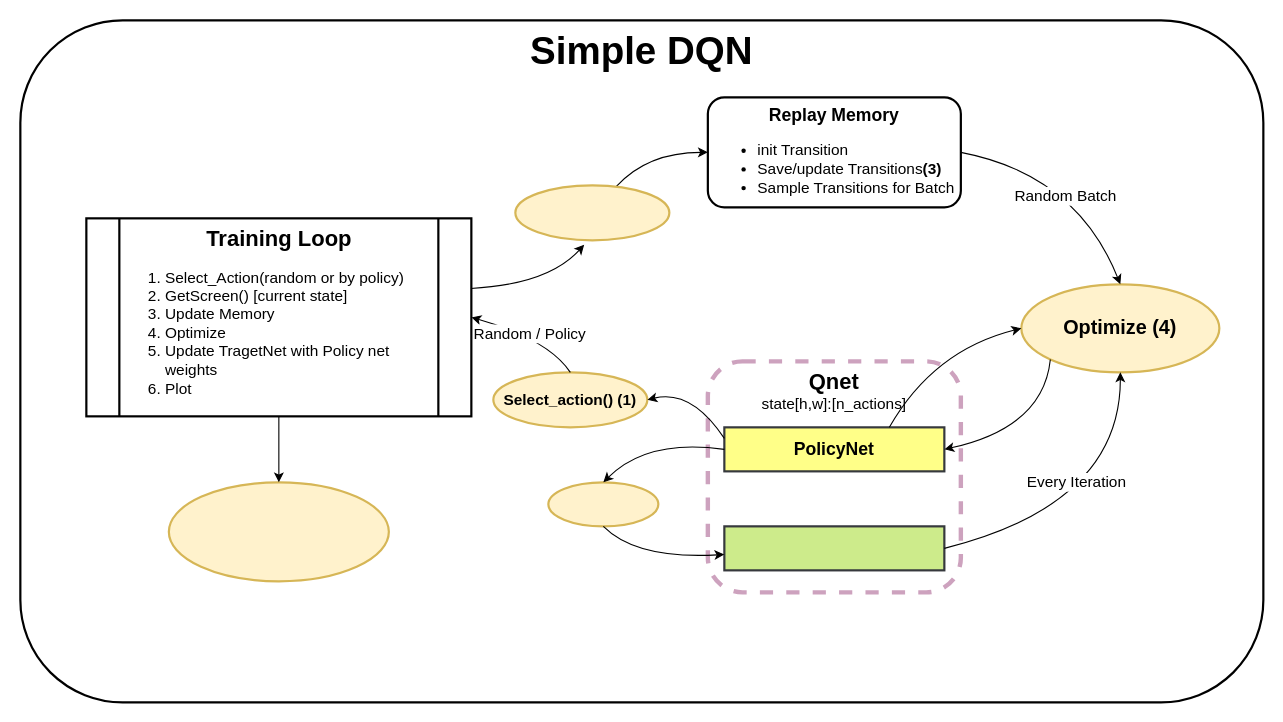
The diagram is 1283 pixels wide and 722 high, and some of its shapes have lost their labels. The shapes that lost their labels are listed below. From the top down, each one's box as (x1, y1, x2, y2) in pixels, then its label:
(514, 184, 670, 241): getScreen()(2)
(547, 481, 659, 527): Update Weights
(167, 481, 389, 582): Plot (6) Environment Render Episode Duration
(723, 525, 945, 571): TargetNet
